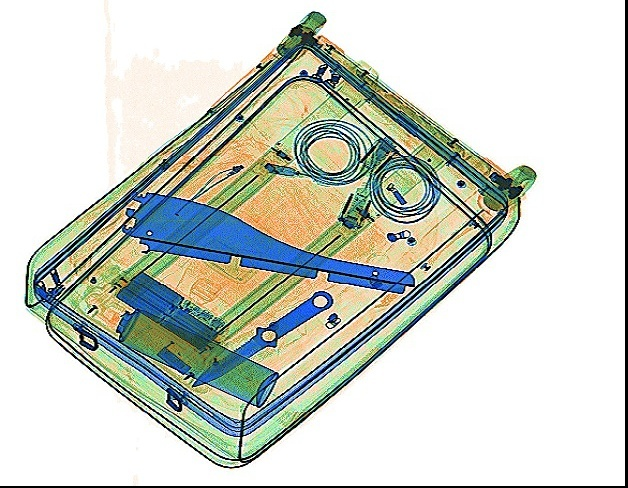knife: (186, 289, 335, 387)
powerbank: (109, 264, 227, 351)
pressure: (109, 301, 276, 405)
